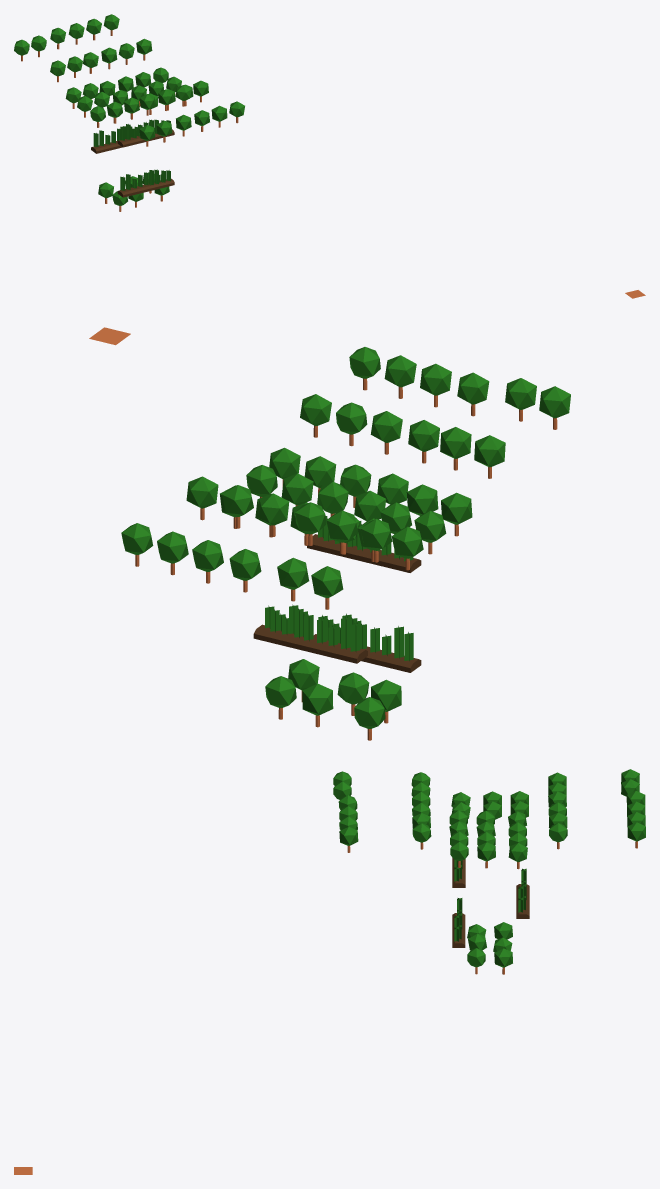
Rendered from solution_4_green_roof.fbx.
3 renders of one model, top to bottom at view 1: azimuth 30°, elevation 25°; view 2: azimuth 150°, elevation 25°; view 3: azimuth 270°, elevation 25°, orthographic. The views are drawn at different scales.
Parts seen in each view (by area): view 1: solution_4_green_roof; view 2: solution_4_green_roof; view 3: solution_4_green_roof.
Part boxes in pixels (<box>): solution_4_green_roof: <box>14,14,645,298</box>; solution_4_green_roof: <box>89,327,570,740</box>; solution_4_green_roof: <box>14,769,645,1174</box>.
Bounding box in the file's own units: 5556 × 2251 × 6749.
